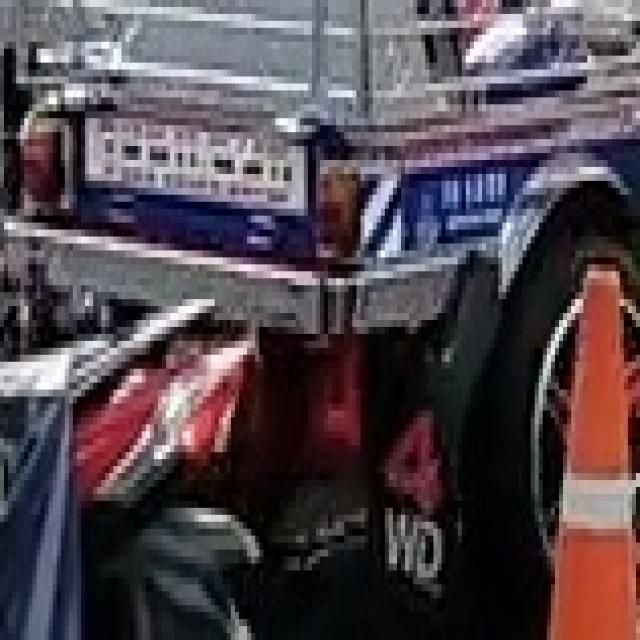door: (0, 0, 636, 633), (535, 257, 636, 633)
